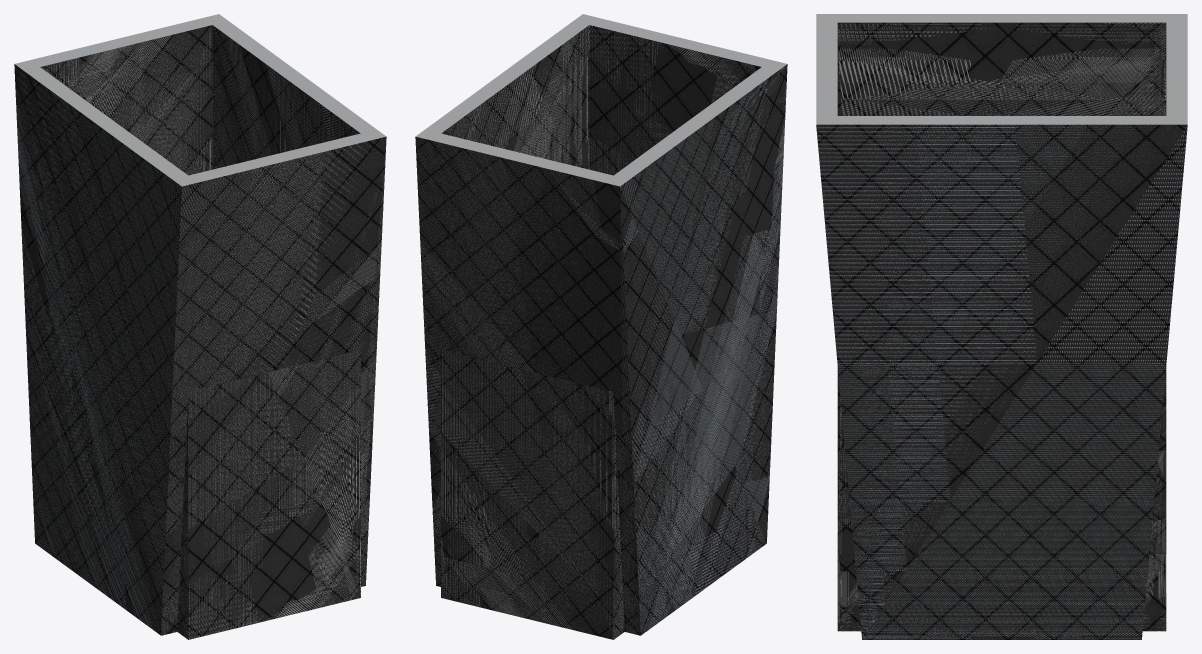
3 renders of one model, left to right at view 1: azimuth 30°, elevation 25°; view 2: azimuth 150°, elevation 25°; view 3: azimuth 270°, elevation 25°, orthographic. The views are drawn at different scales.
Parts seen in each view (by area): view 1: SketchUp (×3); view 2: SketchUp (×3); view 3: SketchUp (×3).
Part boxes in pixels (left/top/right/bottom): SketchUp (×3): left=14, top=14, right=386, bottom=639; SketchUp (×3): left=415, top=14, right=787, bottom=639; SketchUp (×3): left=816, top=14, right=1187, bottom=639.
Size of the model in its own units: 8.56 by 12.14 by 18.56.
4 materials, 1 textured.
